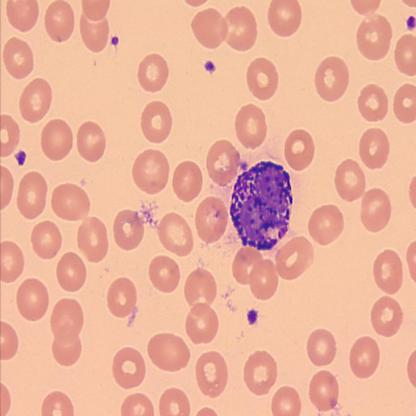Basophil: (228, 158, 297, 255)
